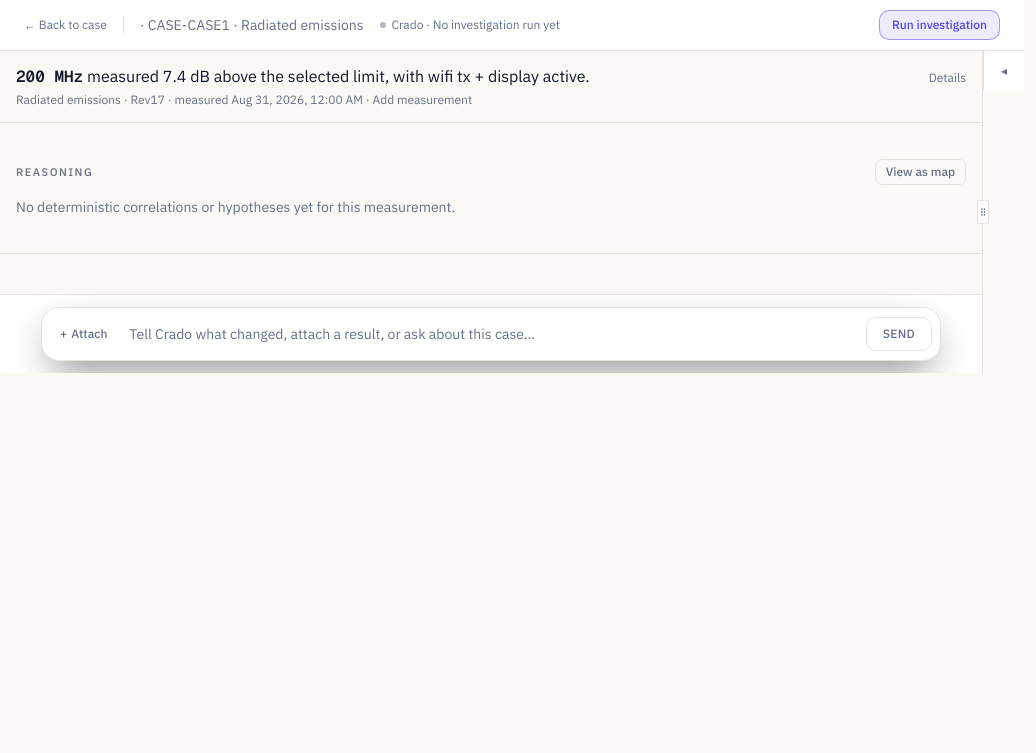
Scenario: InvestigationWorkspace — Investigation Agent (MVP-10C) › shows agent activity progressively as it streams in, then the truthful metrics once agent.completed arrives
Click the button "Run investigation".
click(940, 25)  # box [879, 10, 1000, 40]
(page scrolled)
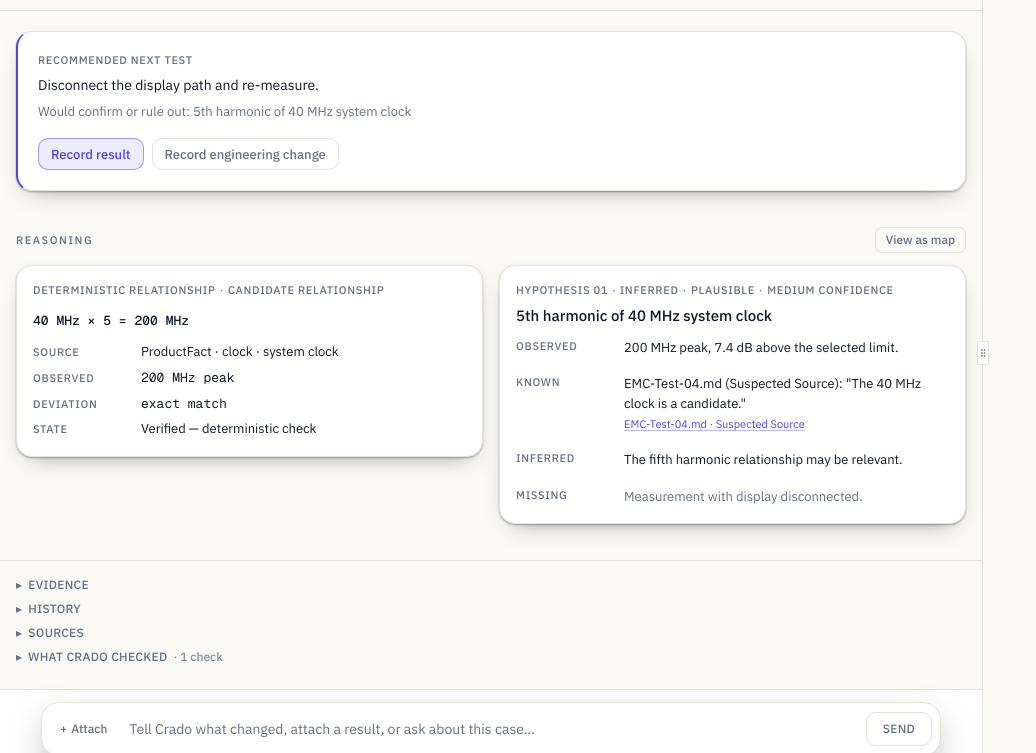
Click the heading "▸ What Crado checked · 1 check".
click(119, 657)  # box [16, 649, 223, 665]
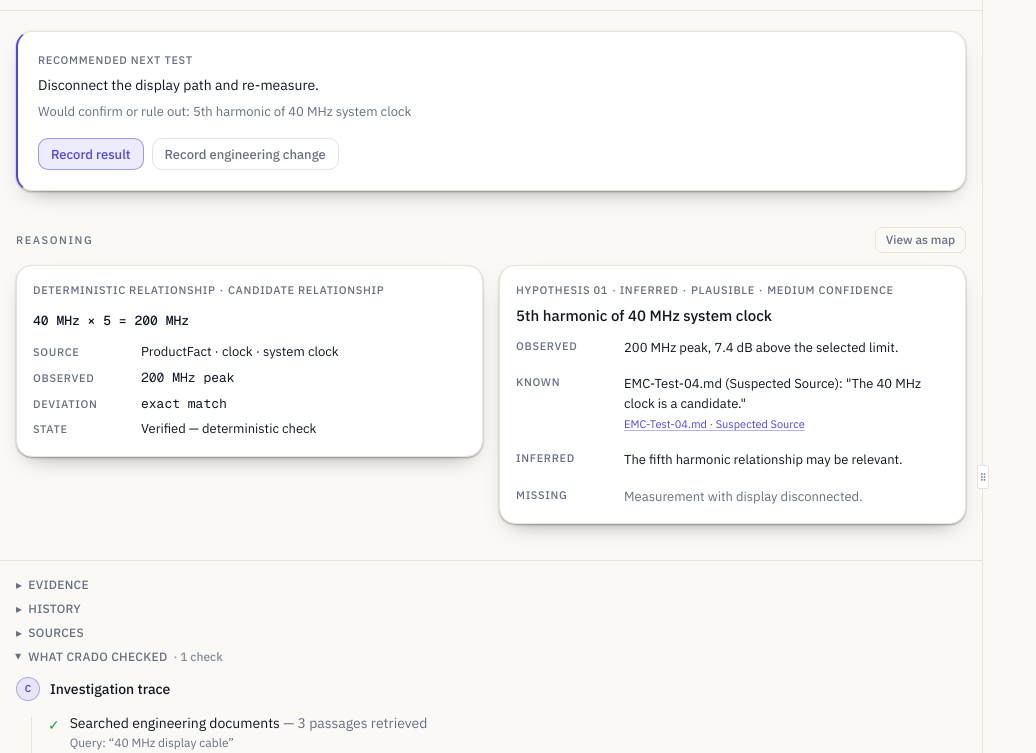
Click the heading "▸ Sources".
click(50, 633)  # box [16, 625, 84, 641]
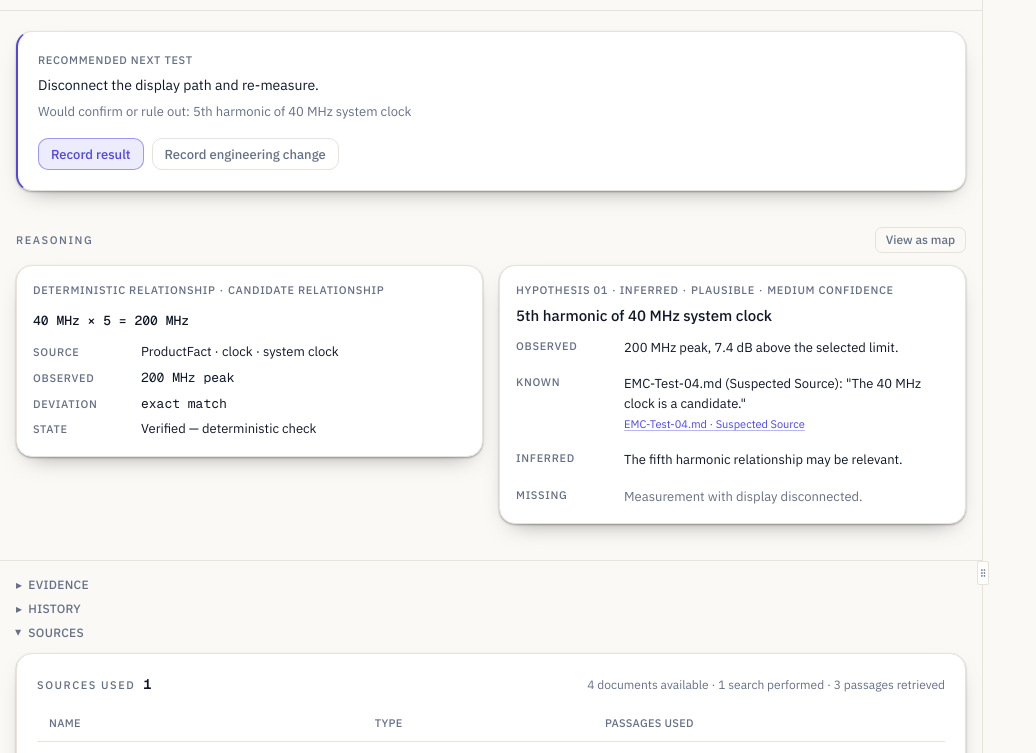
Check: the heading "Sources used" is shown, box [37, 677, 135, 693]
